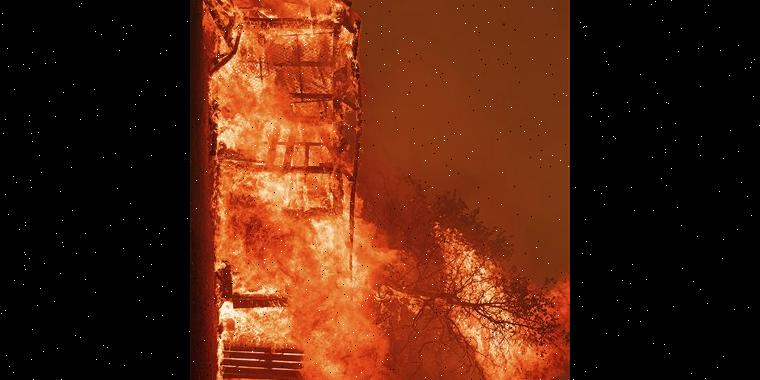fire: (190, 0, 560, 380)
